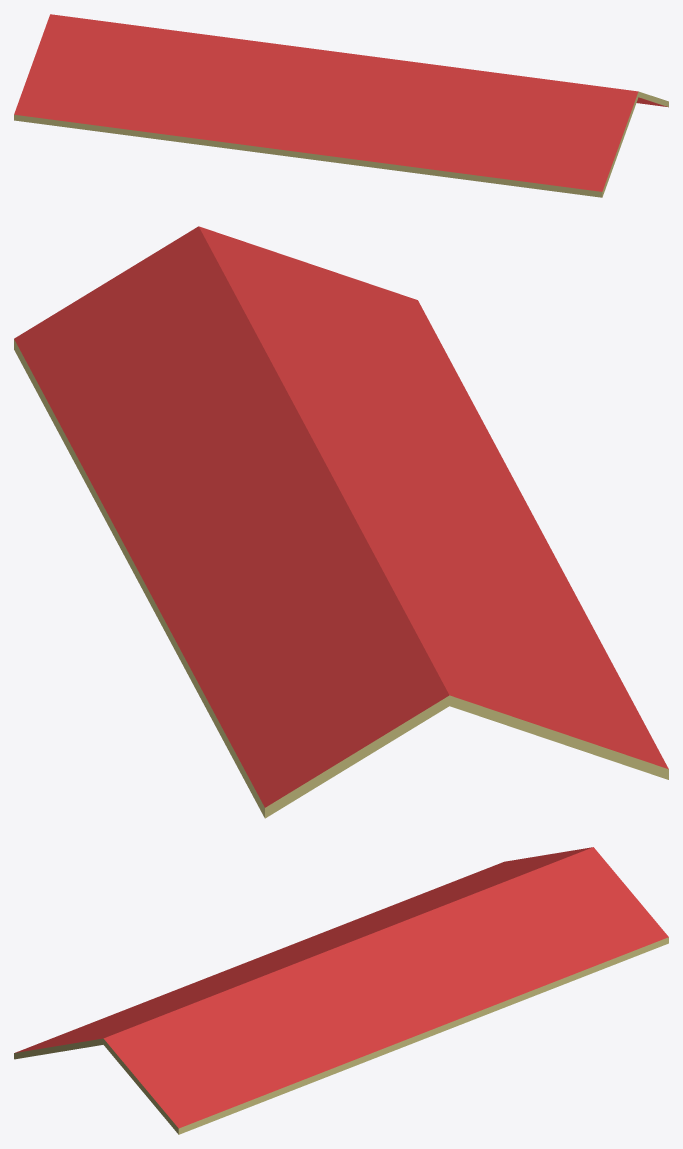
3 views of the same model, one above another, from view 1: azimuth 30°, elevation 25°; view 2: azimuth 150°, elevation 25°; view 3: azimuth 270°, elevation 25° (orthographic). The views are drawn at different scales.
Size of the model in its own units: 9.04 by 9.38 by 0.979.
